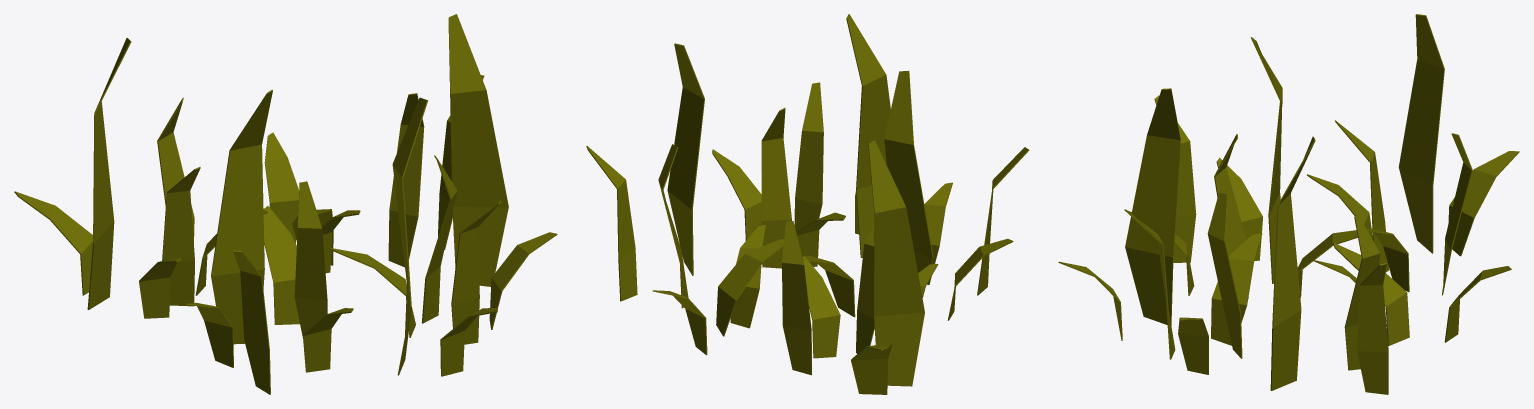
The model's file is Grass.fbx.
3 renders of one model, left to right at view 1: azimuth 30°, elevation 25°; view 2: azimuth 150°, elevation 25°; view 3: azimuth 270°, elevation 25°, orthographic. The views are drawn at different scales.
Parts seen in each view (by area): view 1: Plane.007; view 2: Plane.007; view 3: Plane.007.
Boxes of the visible parts, box(x1,y1,x2,y2) form: Plane.007: box(14, 14, 557, 394); Plane.007: box(586, 14, 1029, 394); Plane.007: box(1058, 14, 1519, 394).
Size of the model in its own units: 0.6226 by 0.6603 by 0.3887.
